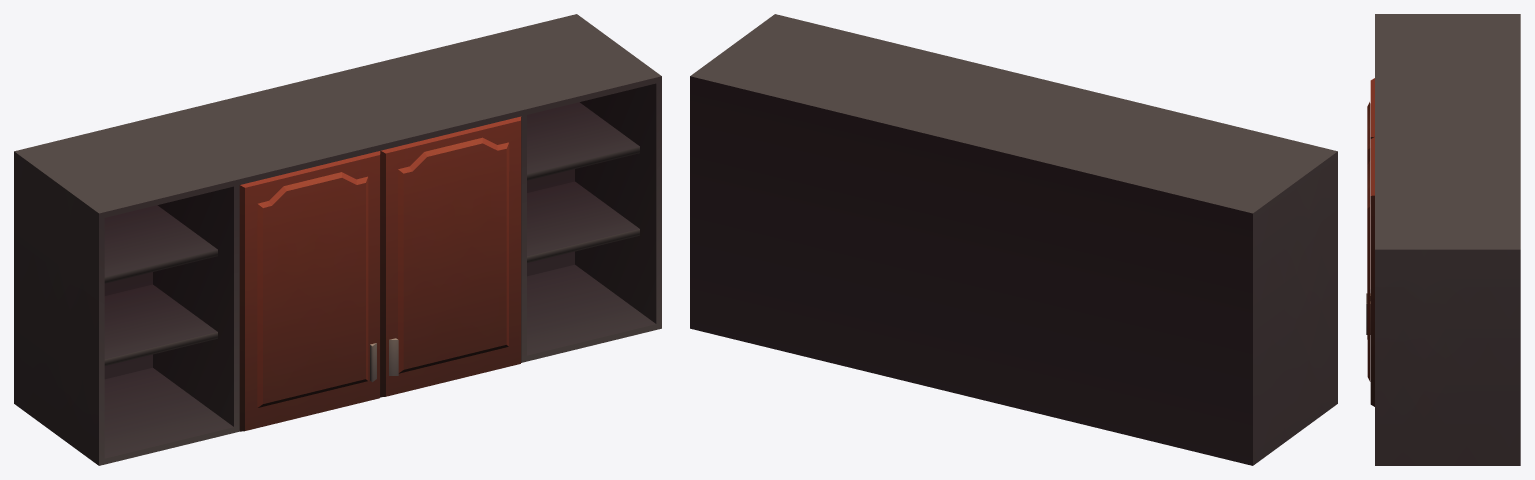
The model's file is TSP_Kitchen_Cabinet_Top_03B.fbx.
3 views of the same model, side by side, from view 1: azimuth 30°, elevation 25°; view 2: azimuth 150°, elevation 25°; view 3: azimuth 270°, elevation 25° (orthographic). The views are drawn at different scales.
Parts seen in each view (by area): view 1: TSP_Kitchen_Cabinet_Top_03B, TSP_Kitchen_Cabinet_Top_03B_Door.L, TSP_Kitchen_Cabinet_Top_03B_Door.R; view 2: TSP_Kitchen_Cabinet_Top_03B; view 3: TSP_Kitchen_Cabinet_Top_03B, TSP_Kitchen_Cabinet_Top_03B_Door.R, TSP_Kitchen_Cabinet_Top_03B_Door.L.
Part boxes in pixels (bbox=[...]): TSP_Kitchen_Cabinet_Top_03B: bbox=[14, 14, 661, 465]; TSP_Kitchen_Cabinet_Top_03B_Door.L: bbox=[239, 151, 380, 431]; TSP_Kitchen_Cabinet_Top_03B_Door.R: bbox=[380, 116, 521, 397]; TSP_Kitchen_Cabinet_Top_03B: bbox=[690, 14, 1337, 465]; TSP_Kitchen_Cabinet_Top_03B: bbox=[1375, 14, 1520, 465]; TSP_Kitchen_Cabinet_Top_03B_Door.R: bbox=[1366, 137, 1374, 406]; TSP_Kitchen_Cabinet_Top_03B_Door.L: bbox=[1366, 78, 1374, 303].
Bounding box in the file's own units: 2 × 0.8572 × 0.5538.
